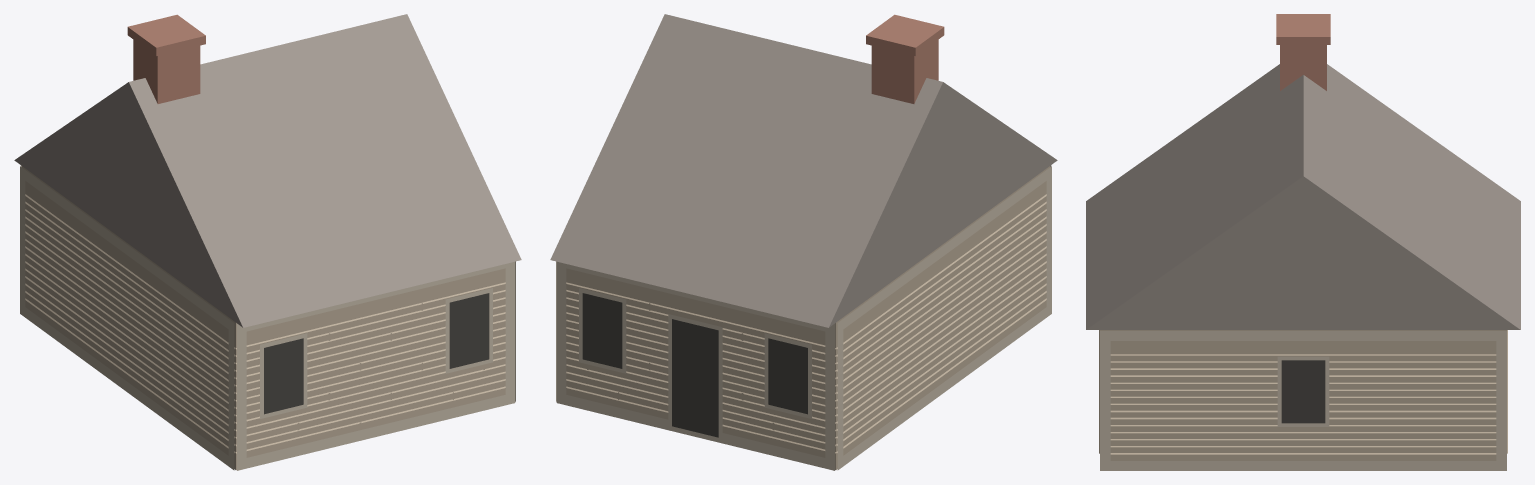
File: inf_mason_dwelling_north__inferred_1835.glb
3 renders of one model, left to right at view 1: azimuth 30°, elevation 25°; view 2: azimuth 150°, elevation 25°; view 3: azimuth 270°, elevation 25°, orthographic. The views are drawn at different scales.
Parts seen in each view (by area): view 1: inf_mason_dwelling_north__inferred_1835; view 2: inf_mason_dwelling_north__inferred_1835; view 3: inf_mason_dwelling_north__inferred_1835.
Part boxes in pixels (x1=…): inf_mason_dwelling_north__inferred_1835: x1=14, y1=14, x2=521, y2=470; inf_mason_dwelling_north__inferred_1835: x1=550, y1=14, x2=1057, y2=470; inf_mason_dwelling_north__inferred_1835: x1=1086, y1=14, x2=1520, y2=470.
Size of the model in its own units: 5.57 by 6.61 by 7.82.
